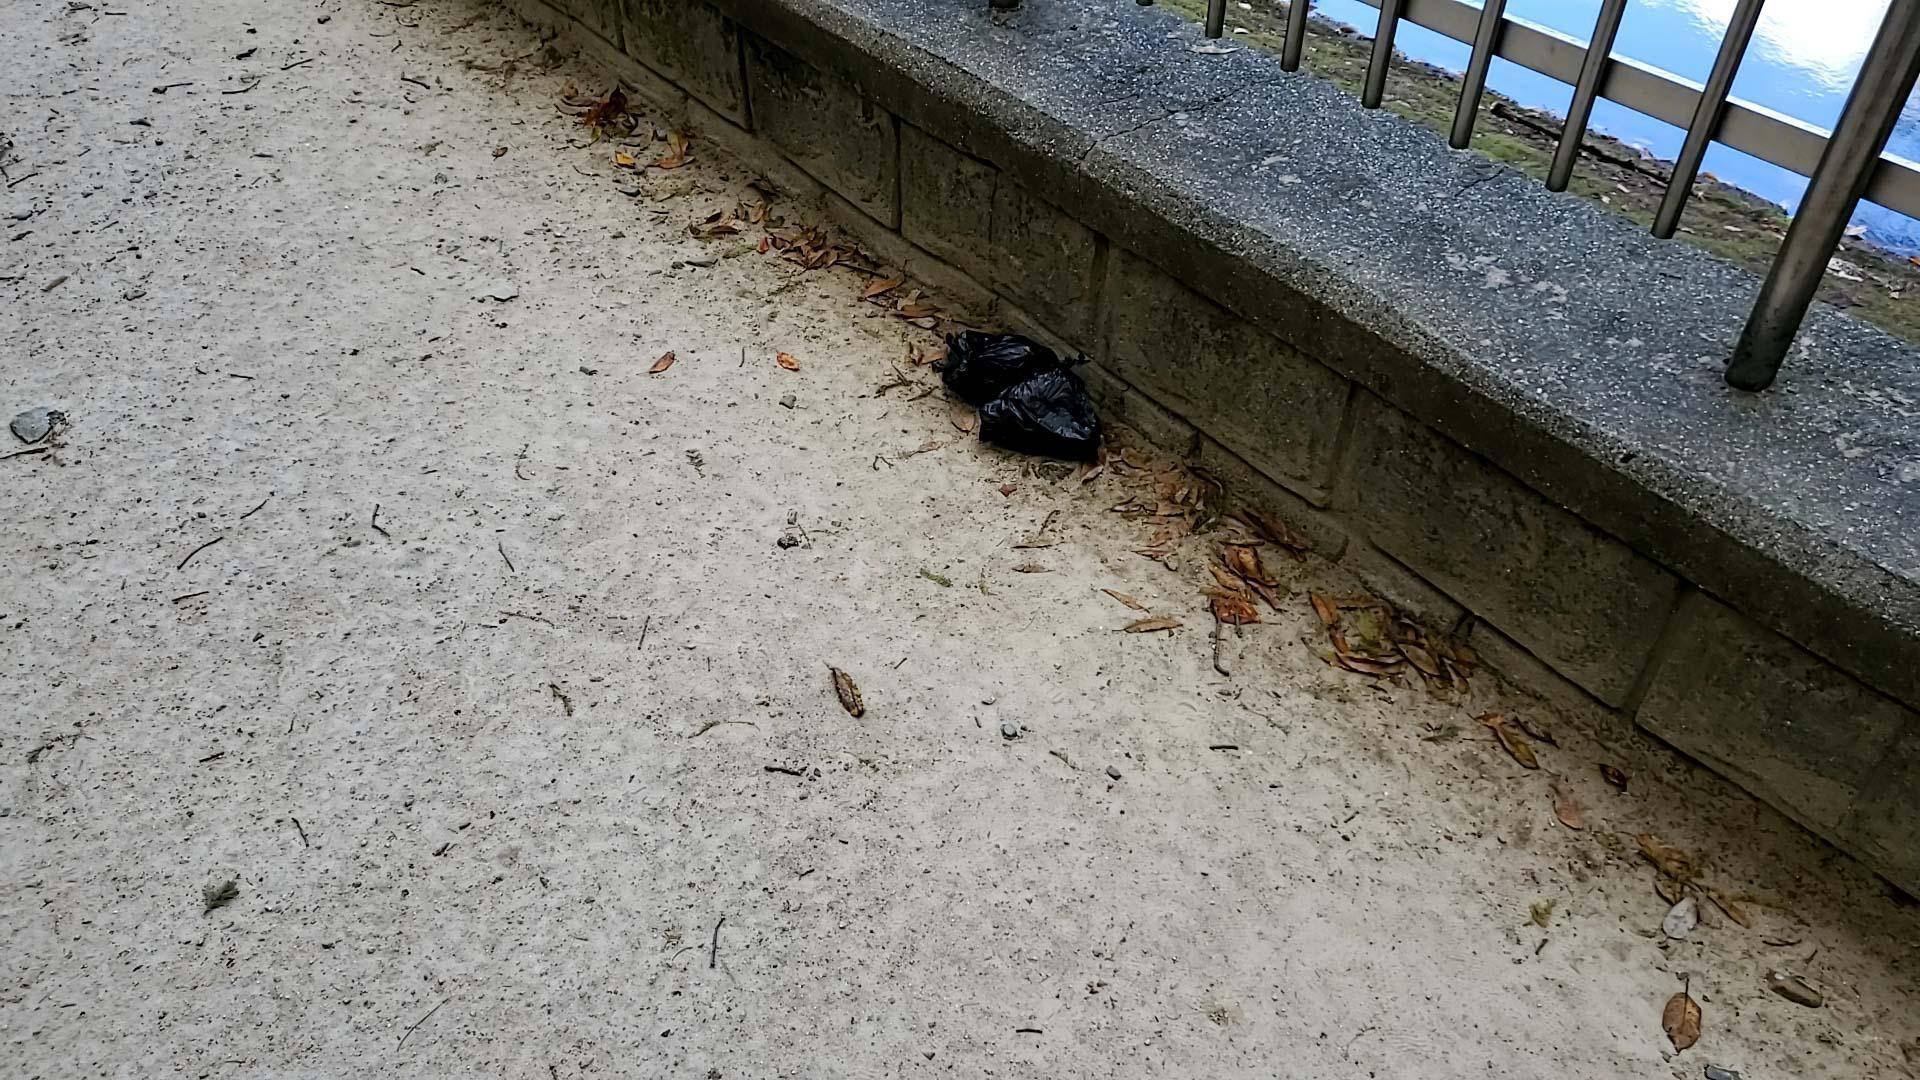black_bag: (973, 348, 1109, 467), (928, 323, 1062, 404)
